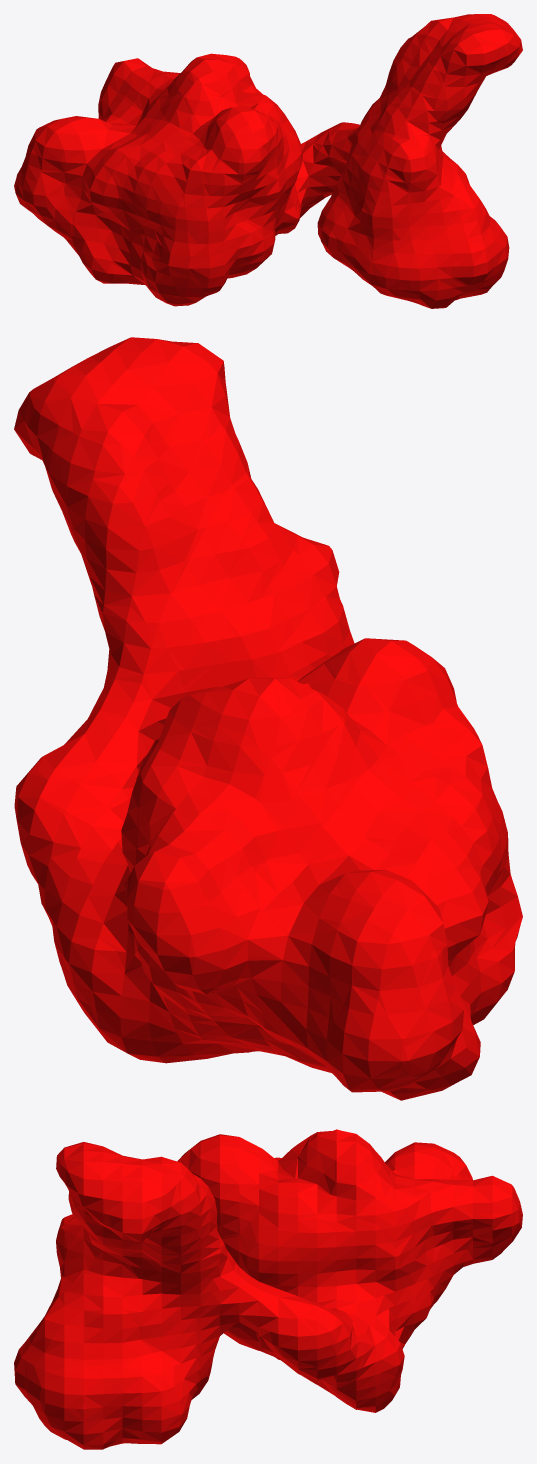
File: dnaB_coarse.dae
3 views of the same model, one above another, from view 1: azimuth 30°, elevation 25°; view 2: azimuth 150°, elevation 25°; view 3: azimuth 270°, elevation 25° (orthographic). The views are drawn at different scales.
Visible parts, largest first — view 1: dnaB; view 2: dnaB; view 3: dnaB.
Boxes of the visible parts, bbox=[...] form: dnaB: bbox=[14, 14, 522, 308]; dnaB: bbox=[14, 337, 522, 1100]; dnaB: bbox=[14, 1129, 522, 1449].
Bounding box in the file's own units: 86.03 × 62.72 × 88.34.
